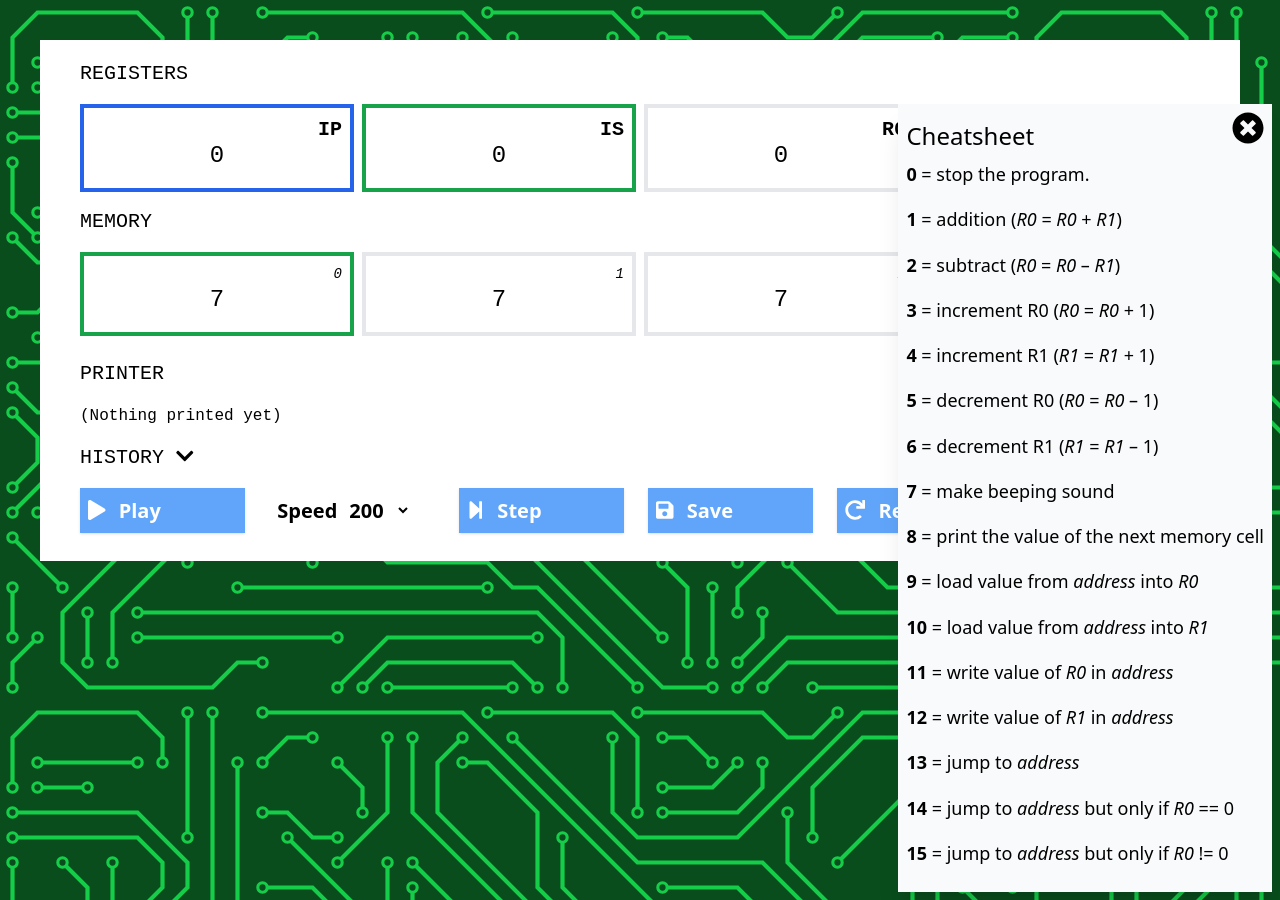
Scenario: FantasyCpu component › should when the user alters the memory change the program / data
Click the button "Play" at (163, 510), box [80,488,245,533]
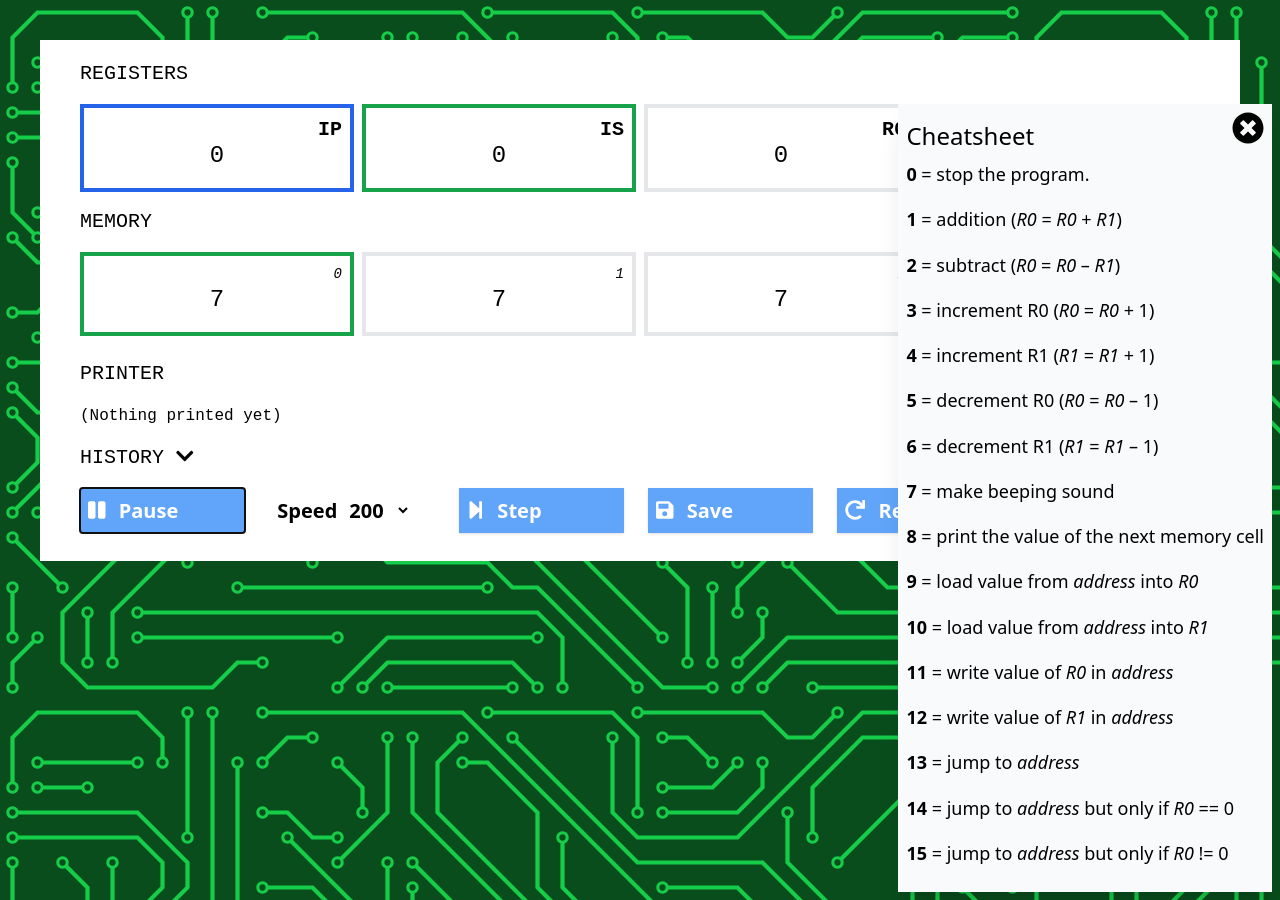
Replace the text in the field with test id "memory-0" with "8" at (217, 300), box [185,284,249,316]
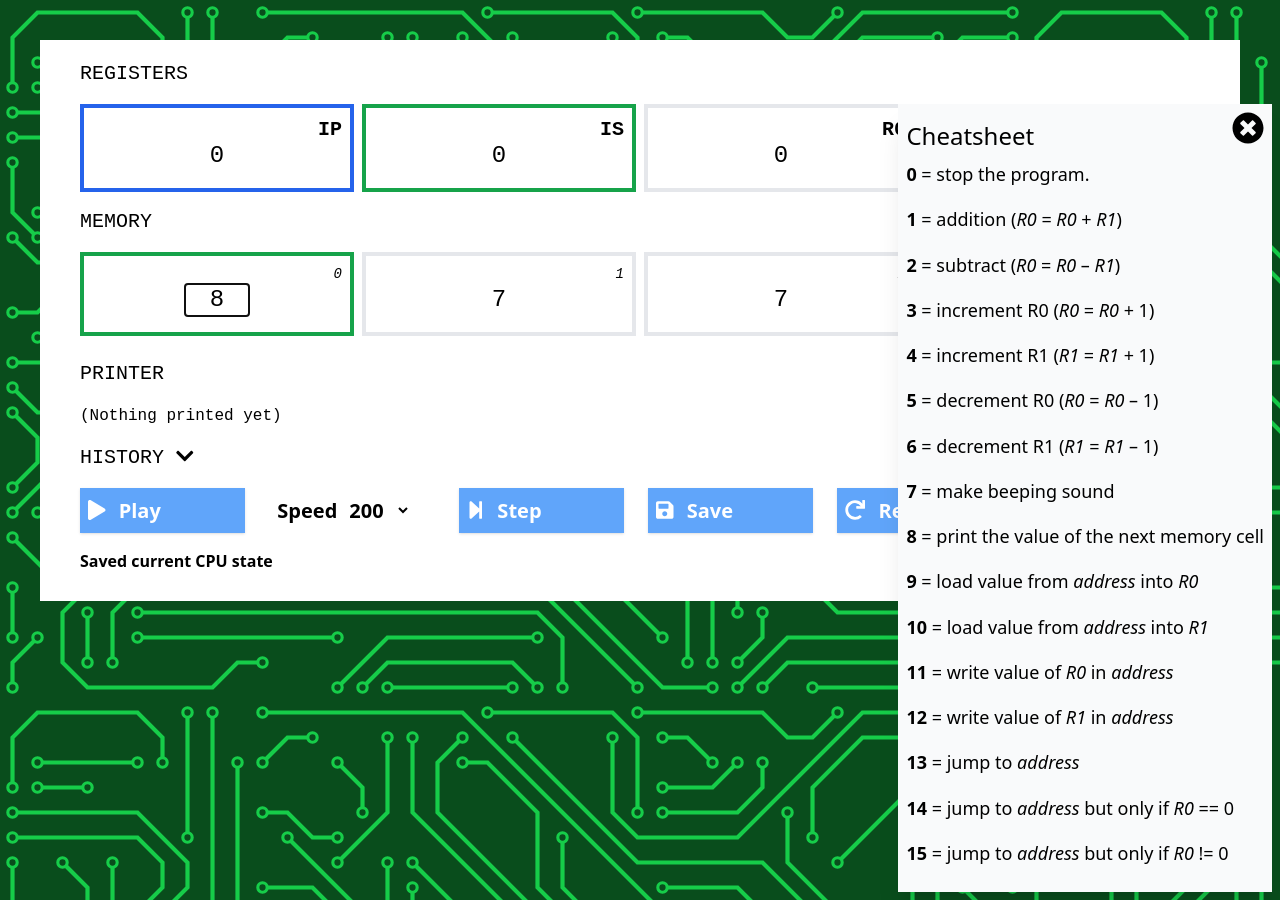
Replace the text in the field with test id "memory-1" with "42" at (499, 300), box [467,284,531,316]
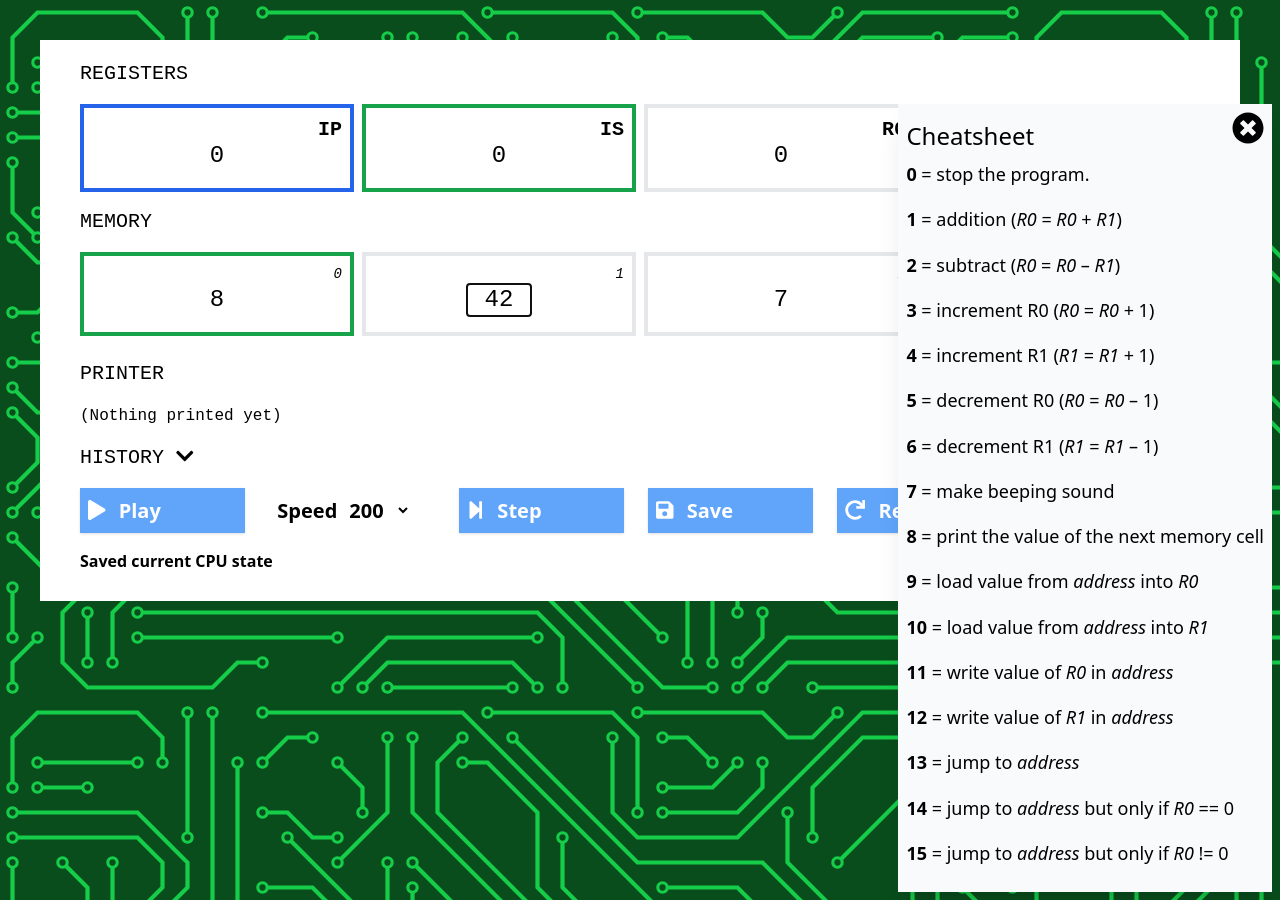
Replace the text in the field with test id "memory-2" with "0" at (781, 300), box [749,284,813,316]
Wait 1000 ms
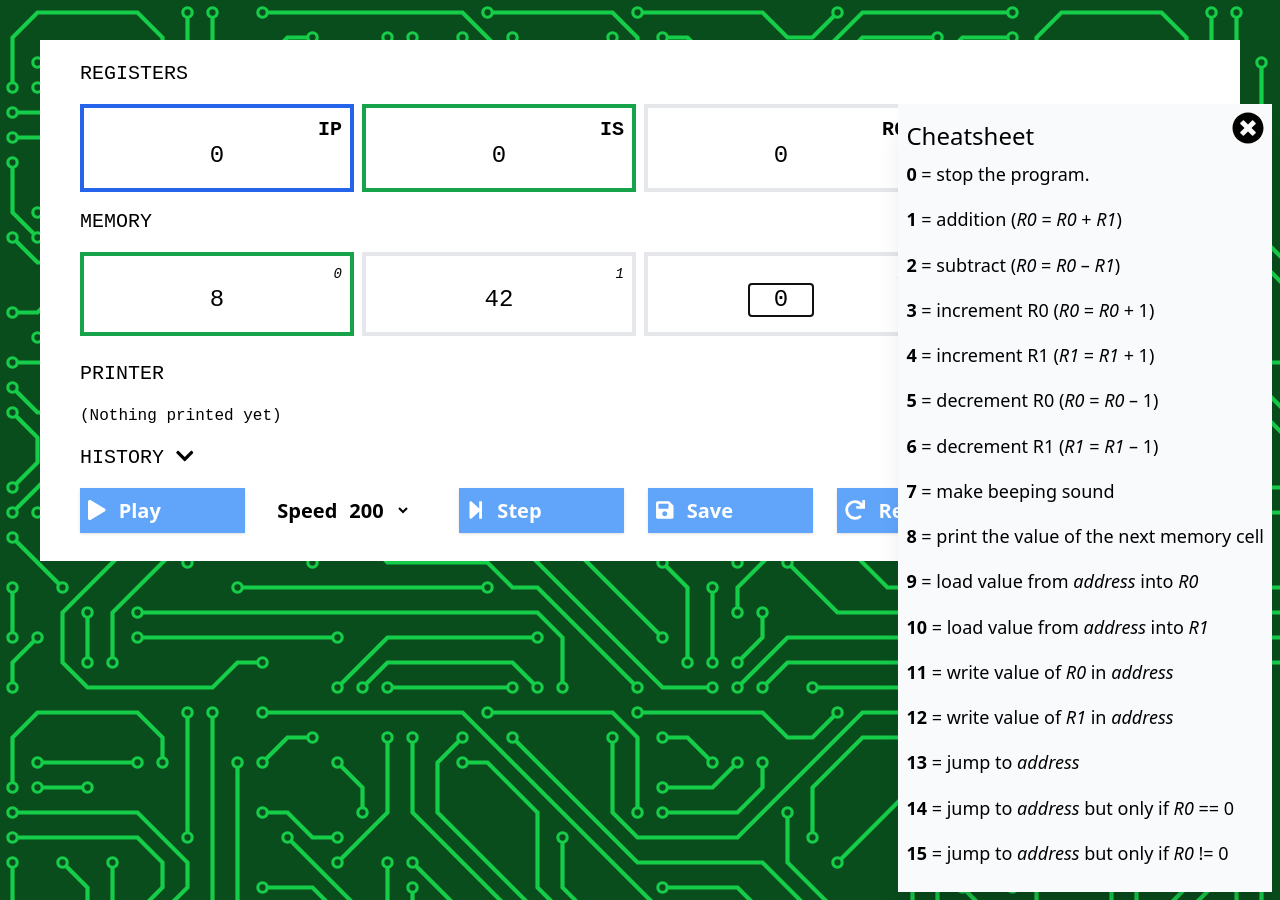
Click the button "Play" at (163, 510), box [80,488,245,533]
Wait 1000 ms
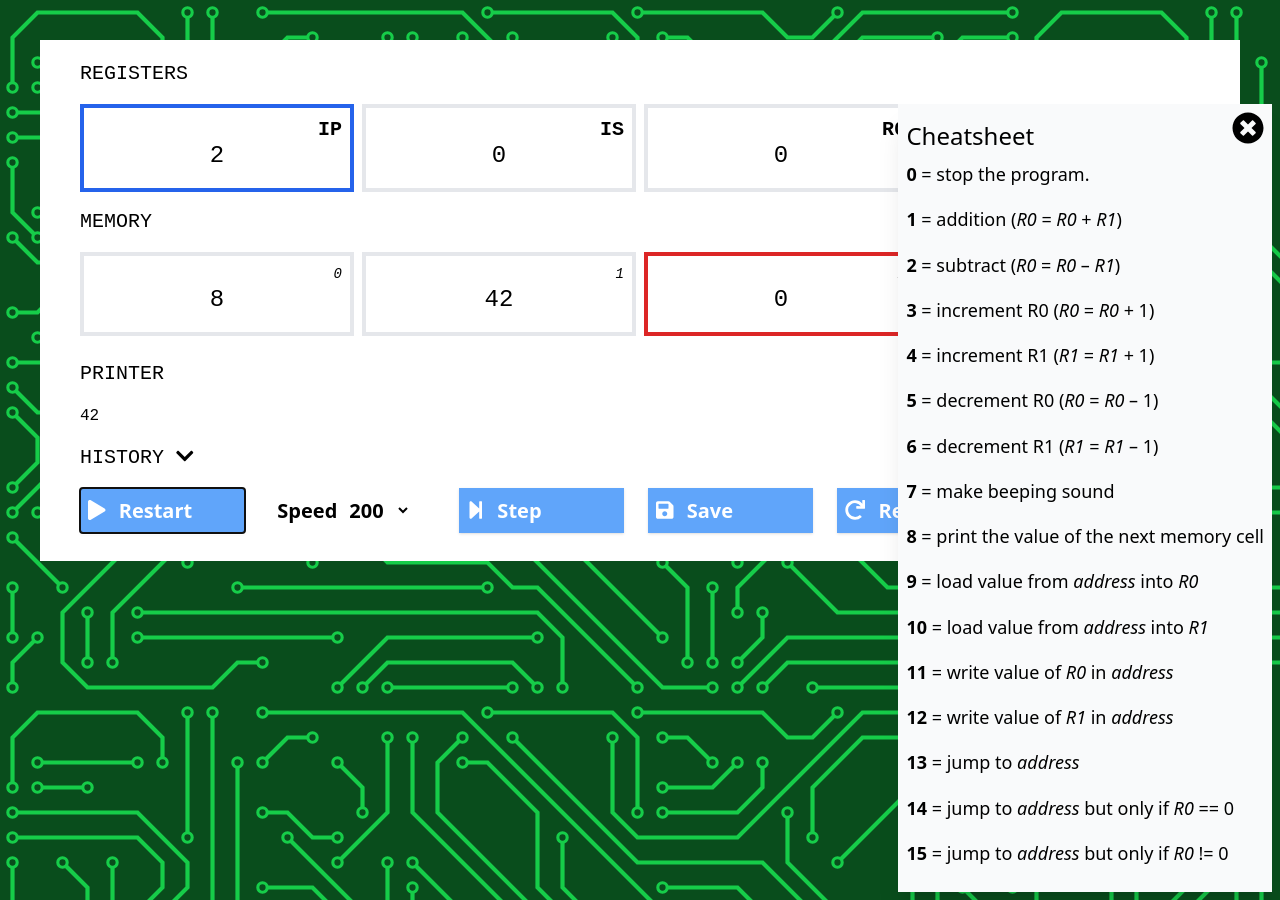
Expected: the text with test id "line" reads "42", [80,407,99,425]
